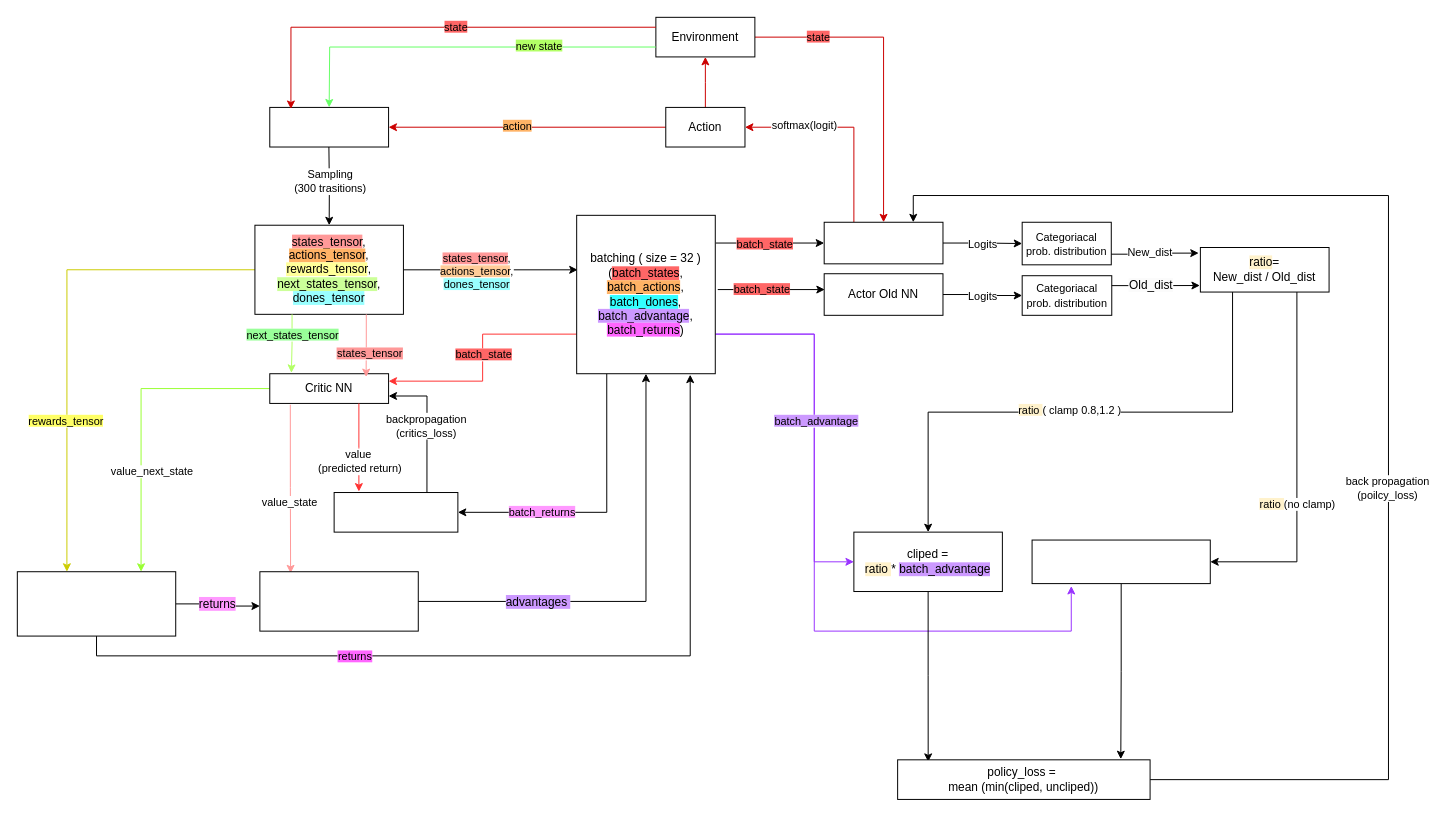
Image size: 1445x817. Some labels were removed from this diagram. Each missing label, with the centre of its shape:
Actor New NN: the point at 883,242
advantages = returns - value_state: the point at 338,601
Memory (1200 transitions): the point at 329,126
MSE_loss(value, batch_returns ): the point at 395,512
returns = rewards + gamma * value_next_state: the point at 96,603
uncliped = ratio * batch_advantage: the point at 1120,561
